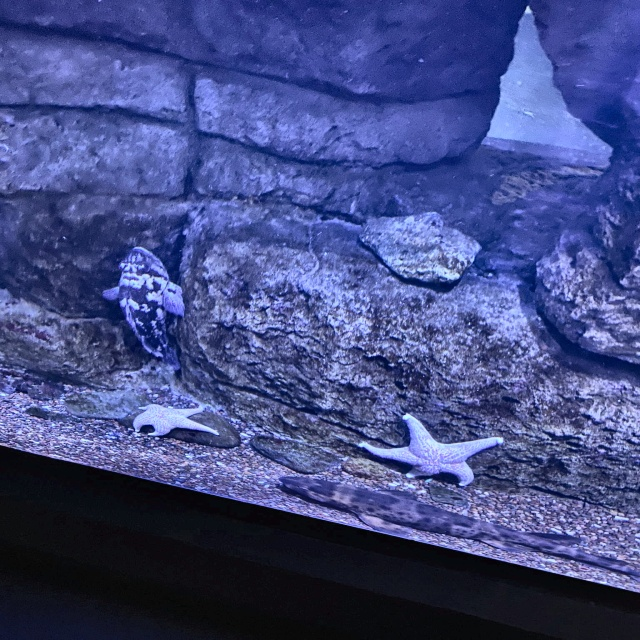fish: (105, 247, 184, 360)
shark: (276, 476, 639, 578)
starfish: (359, 415, 502, 487), (134, 404, 218, 437)
